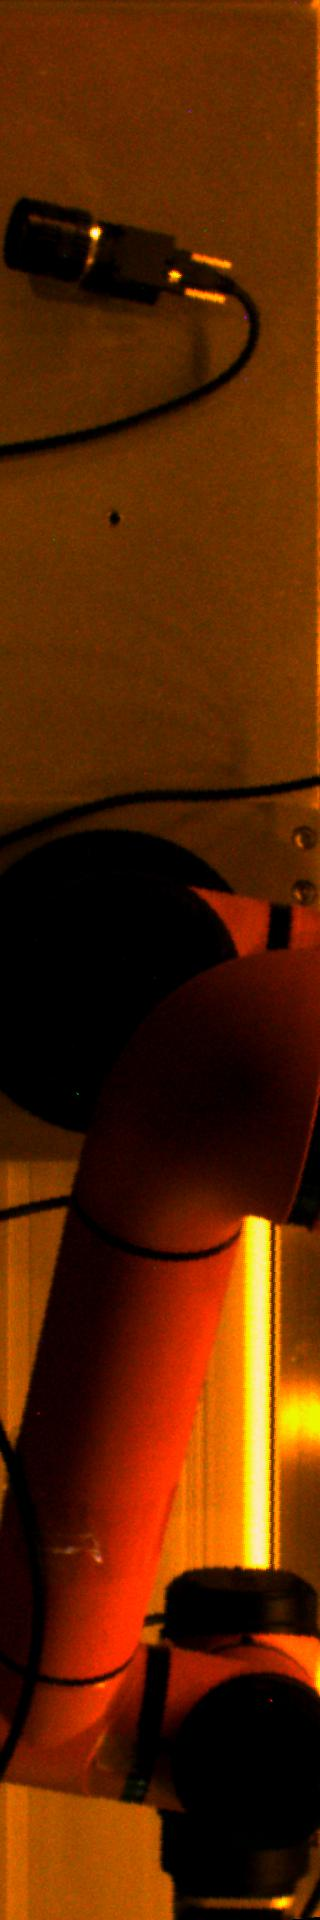keyPoint_2: (99, 504, 129, 535)
